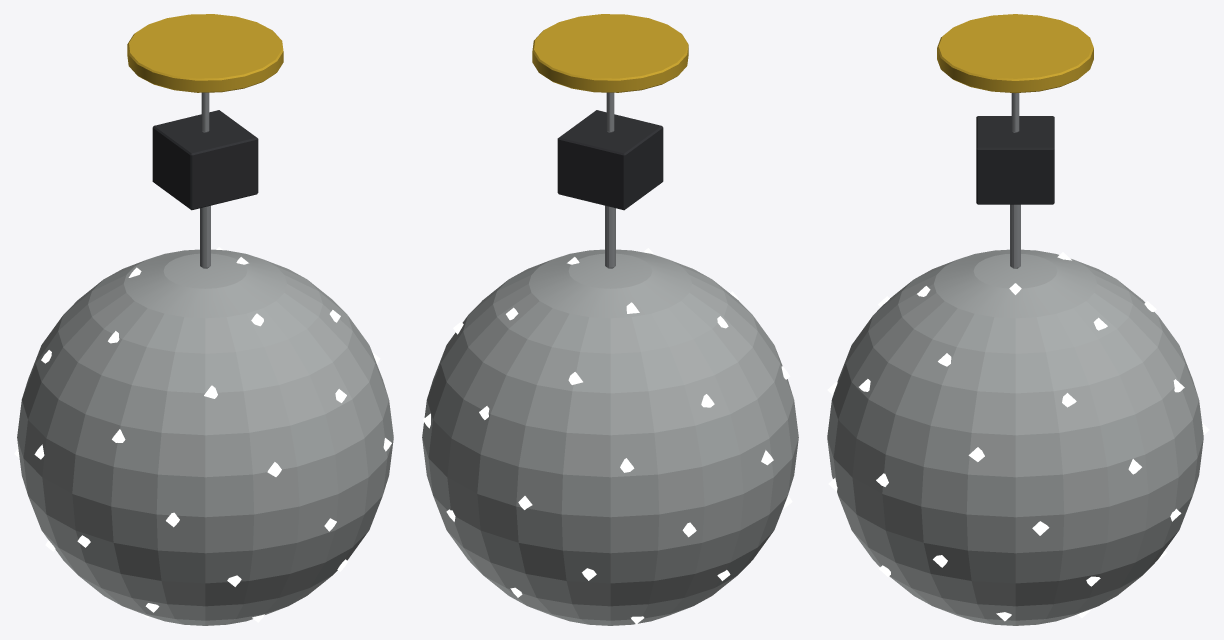
The model's file is prop_ah_mirror_ball.glb.
3 renders of one model, left to right at view 1: azimuth 30°, elevation 25°; view 2: azimuth 150°, elevation 25°; view 3: azimuth 270°, elevation 25°, orthographic.
Visible parts, largest first — view 1: Ball, Body; view 2: Ball, Body; view 3: Ball, Body.
Boxes of the visible parts, x1,y1,x2,y2 form: Ball: [14, 247, 393, 625]; Body: [127, 14, 283, 268]; Ball: [422, 248, 798, 625]; Body: [532, 14, 688, 268]; Ball: [827, 249, 1209, 625]; Body: [937, 14, 1093, 268].
Size of the model in its own units: 0.4912 by 0.7921 by 0.4877.
